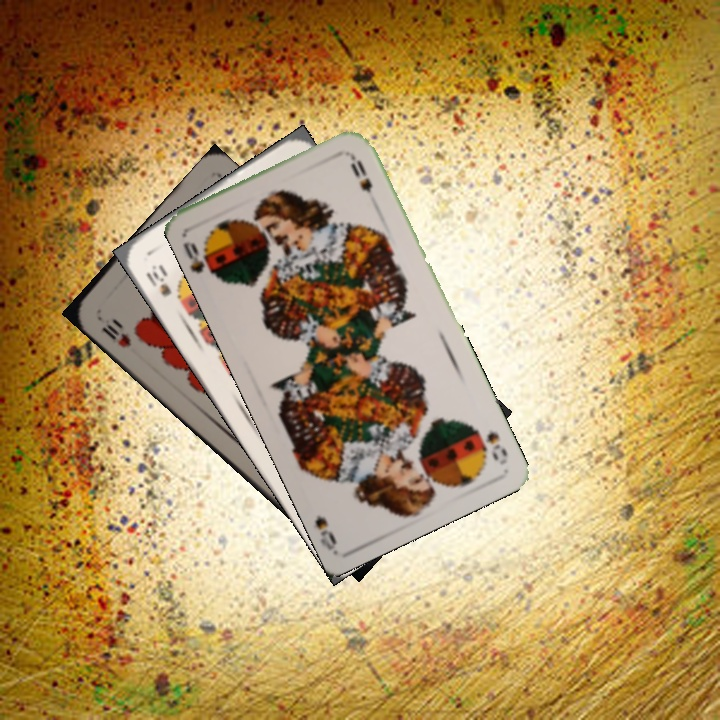H10: (97, 320, 134, 351)
S10: (141, 260, 175, 299)
SO: (179, 237, 223, 282), (472, 425, 511, 468)
